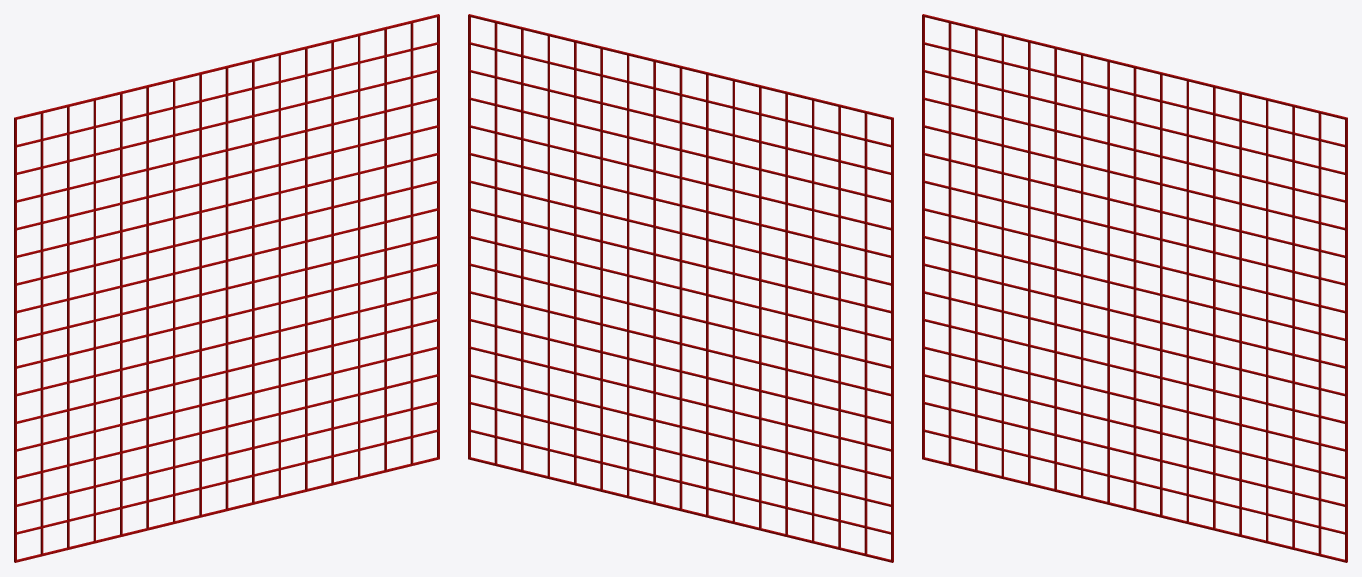
Rendered from basecuts.obj.
3 views of the same model, side by side, from view 1: azimuth 30°, elevation 25°; view 2: azimuth 150°, elevation 25°; view 3: azimuth 330°, elevation 25° (orthographic).
Visible parts, largest first — view 1: object_2, object_1; view 2: object_2, object_1; view 3: object_2, object_1.
Part boxes in pixels (x1,y1,x2,y2): object_2: (14,14,439,340); object_1: (14,237,439,562); object_2: (468,14,893,340); object_1: (468,237,893,562); object_2: (922,14,1347,340); object_1: (922,237,1347,562).
Size of the model in its own units: 55.17 by 55.17 by 0.28.
